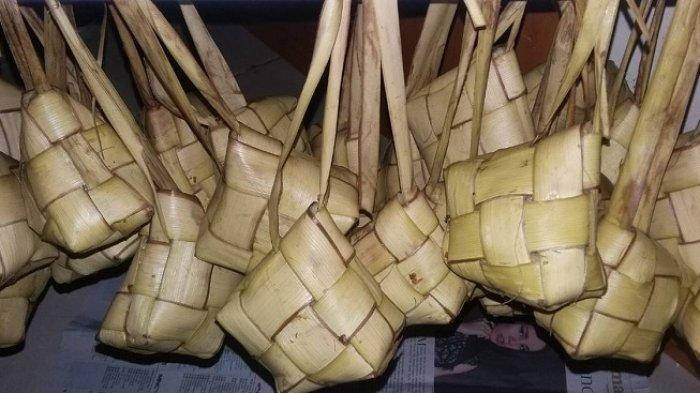ketupat: (217, 202, 405, 392), (442, 122, 607, 313), (18, 89, 148, 260)
